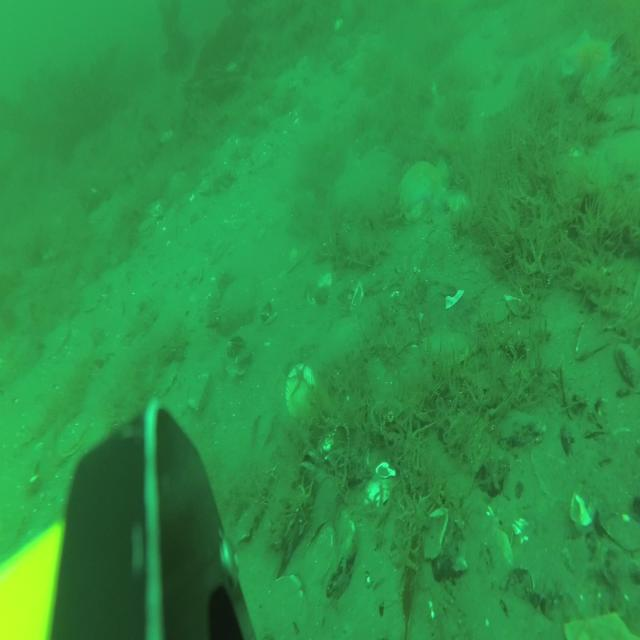scallop: (60, 408, 94, 458), (286, 365, 316, 417), (136, 212, 158, 236)
starfish: (562, 28, 616, 95), (395, 157, 449, 215)
